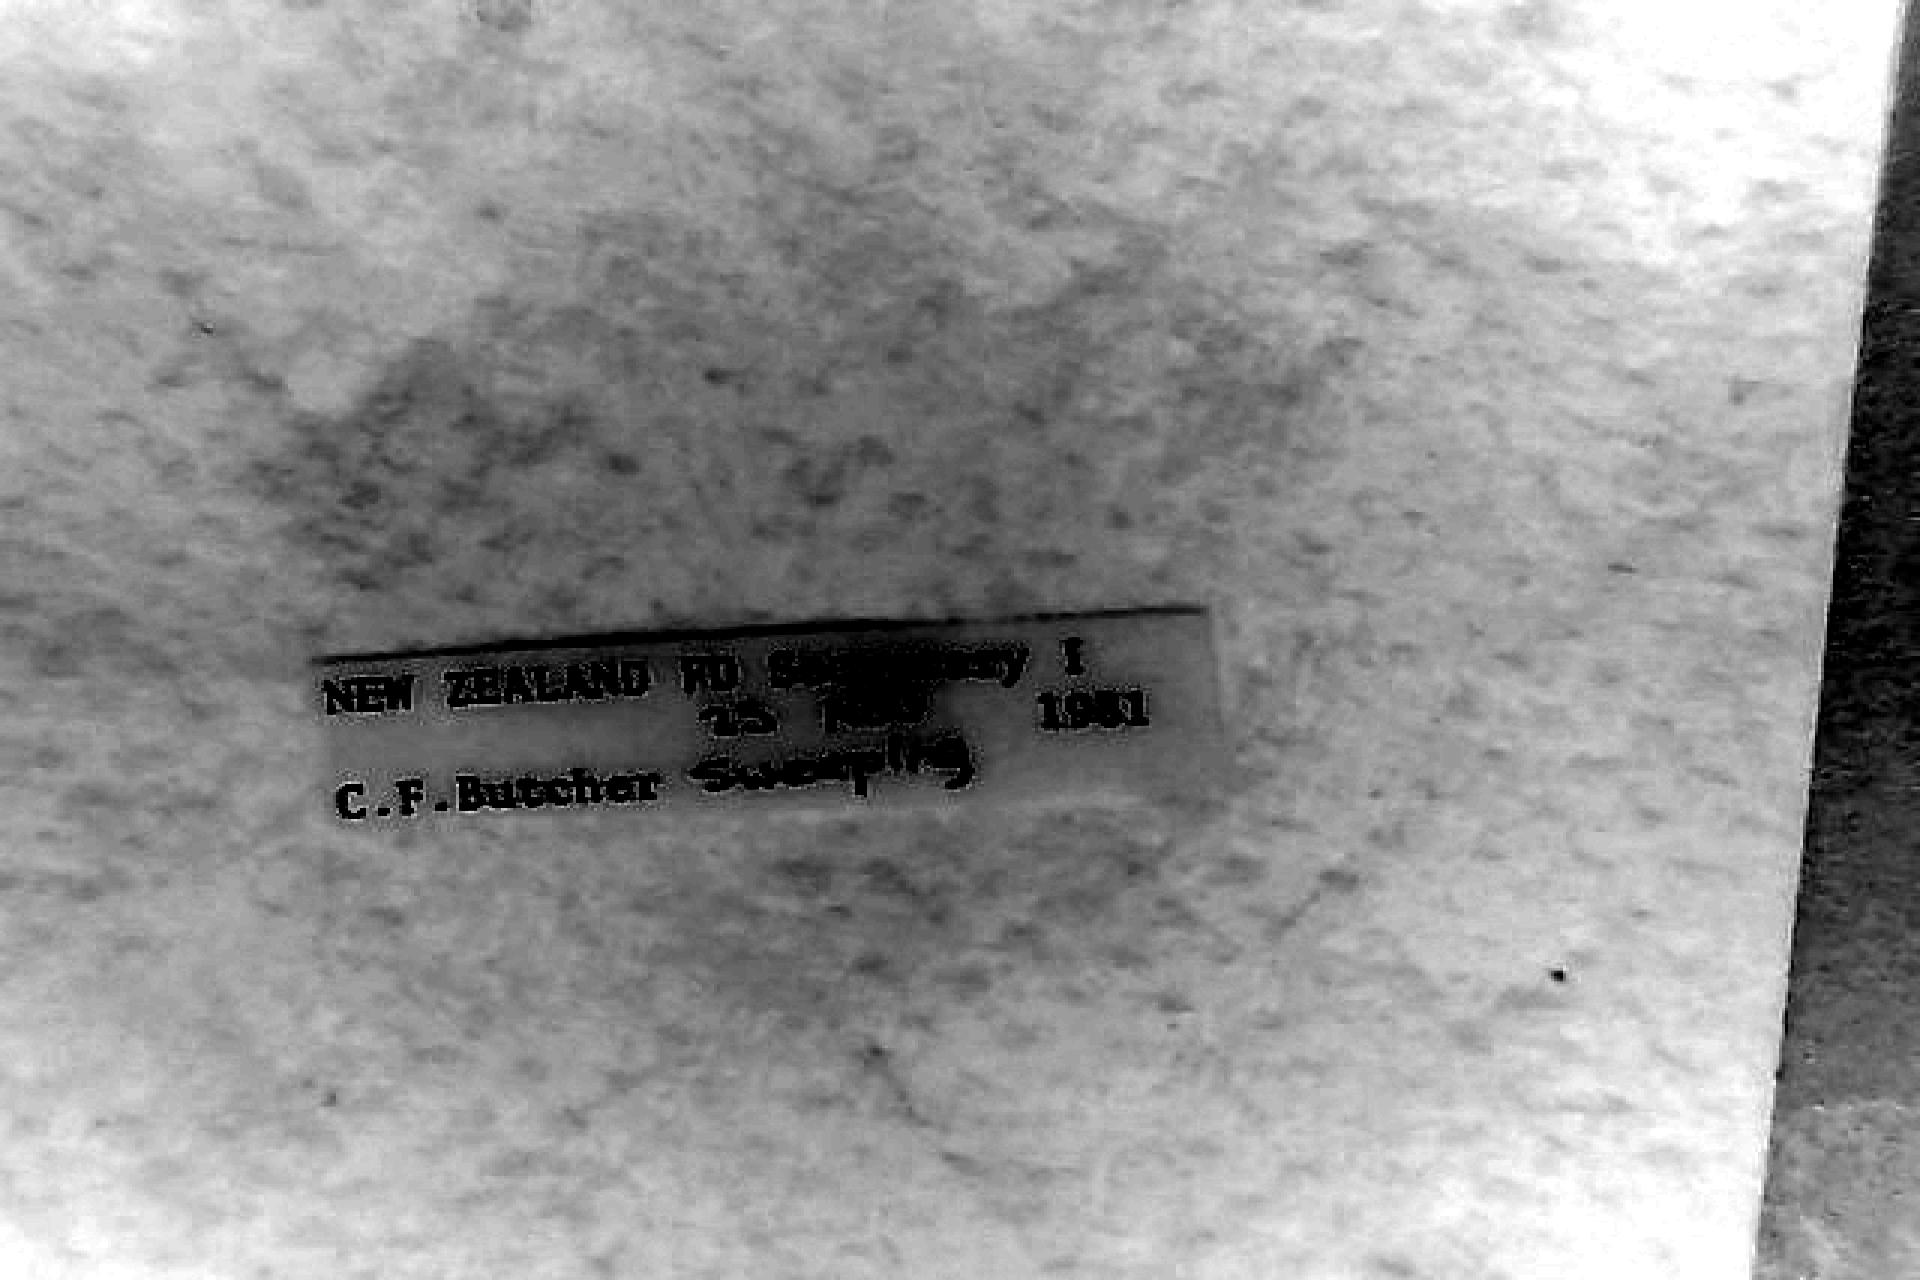mixed_label: (315, 610, 1219, 830)
